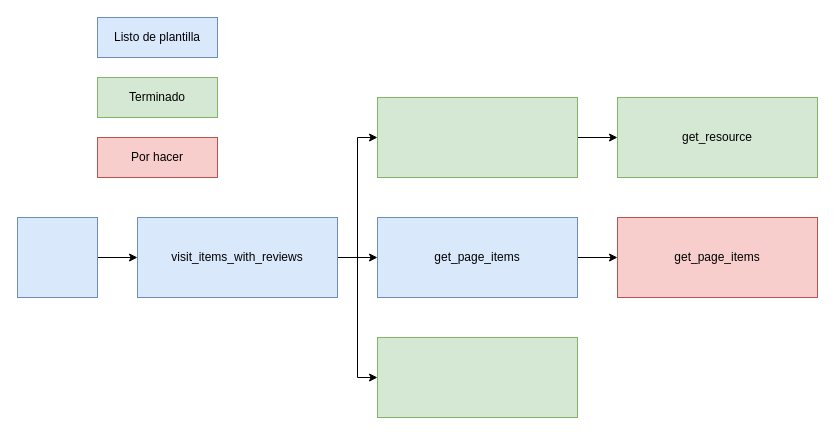
The diagram is 835 pixels wide and 435 high, and some of its shapes have lost their labels. The centre of each missing label's shape, as x and y in pixels:
"get_resource_paginated" goes at (x=477, y=137).
"Main" goes at (x=57, y=257).
"store_items_with_reviews" goes at (x=477, y=377).
